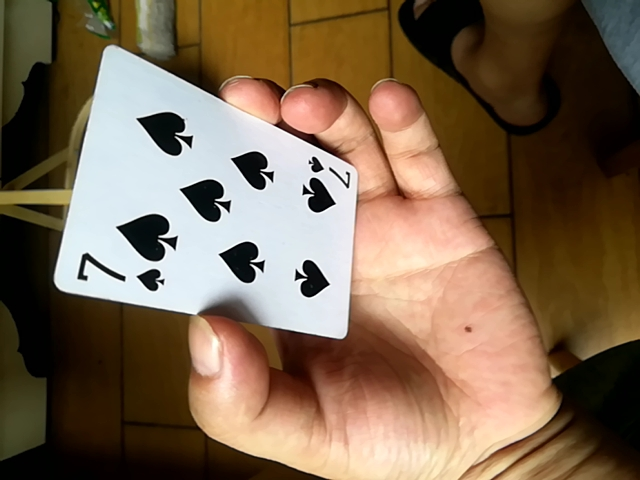ht 7: (54, 43, 360, 348)
